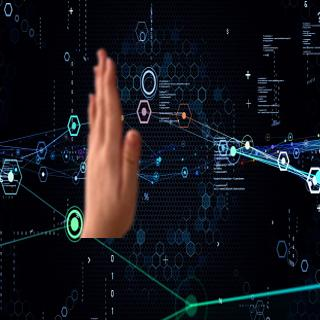Right: (75, 40, 148, 246)
